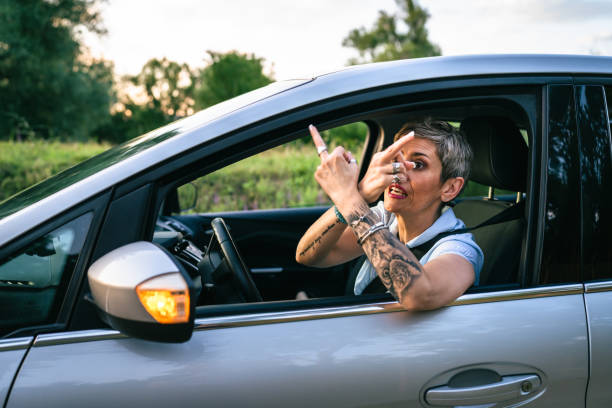insulting_gesture: (303, 120, 361, 193), (365, 125, 417, 193)
